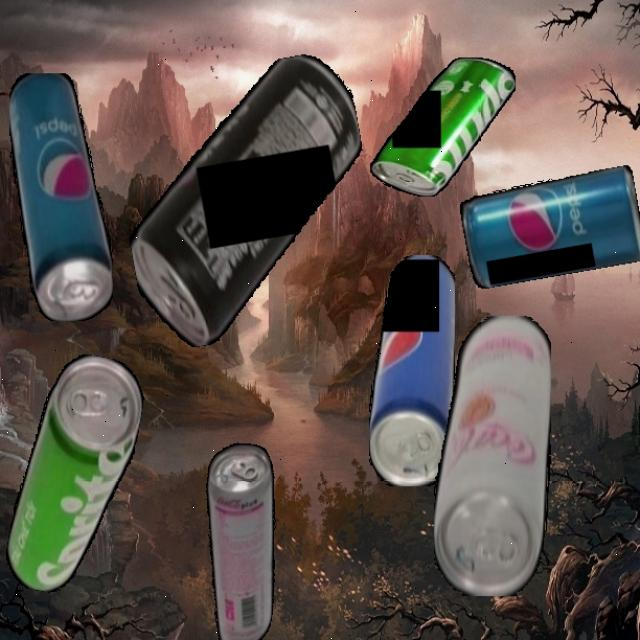debris: (104, 48, 391, 355), (1, 348, 150, 602), (433, 315, 551, 596), (8, 72, 113, 321), (178, 437, 300, 640), (458, 165, 640, 290), (369, 57, 516, 196), (368, 254, 455, 486)
